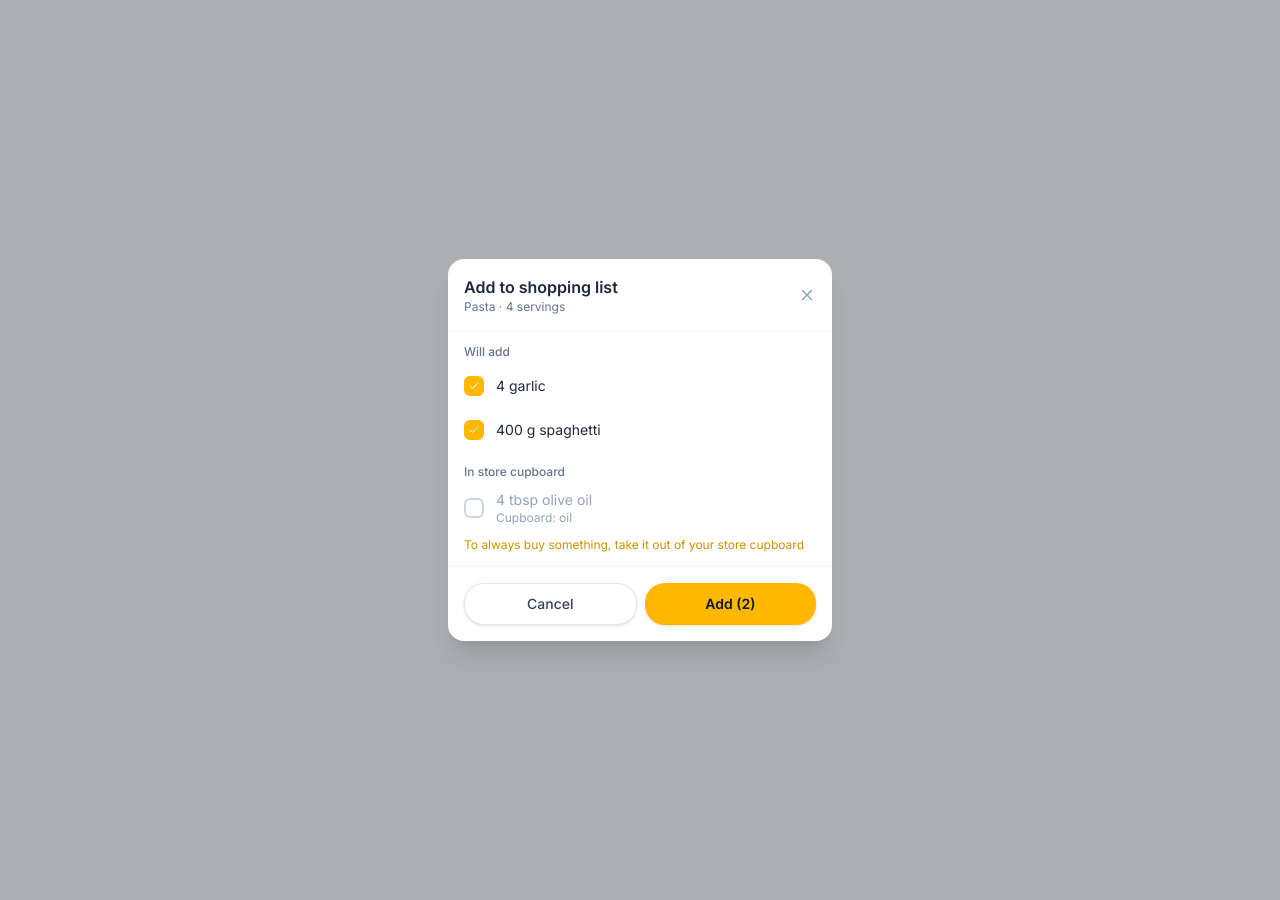
Scenario: AddMealPreviewModal › offers only what is not on the list yet when opened again
The image size is (1280, 900).
Click the checkbox labelled "4 garlic": (521, 385) [464,364,816,408]
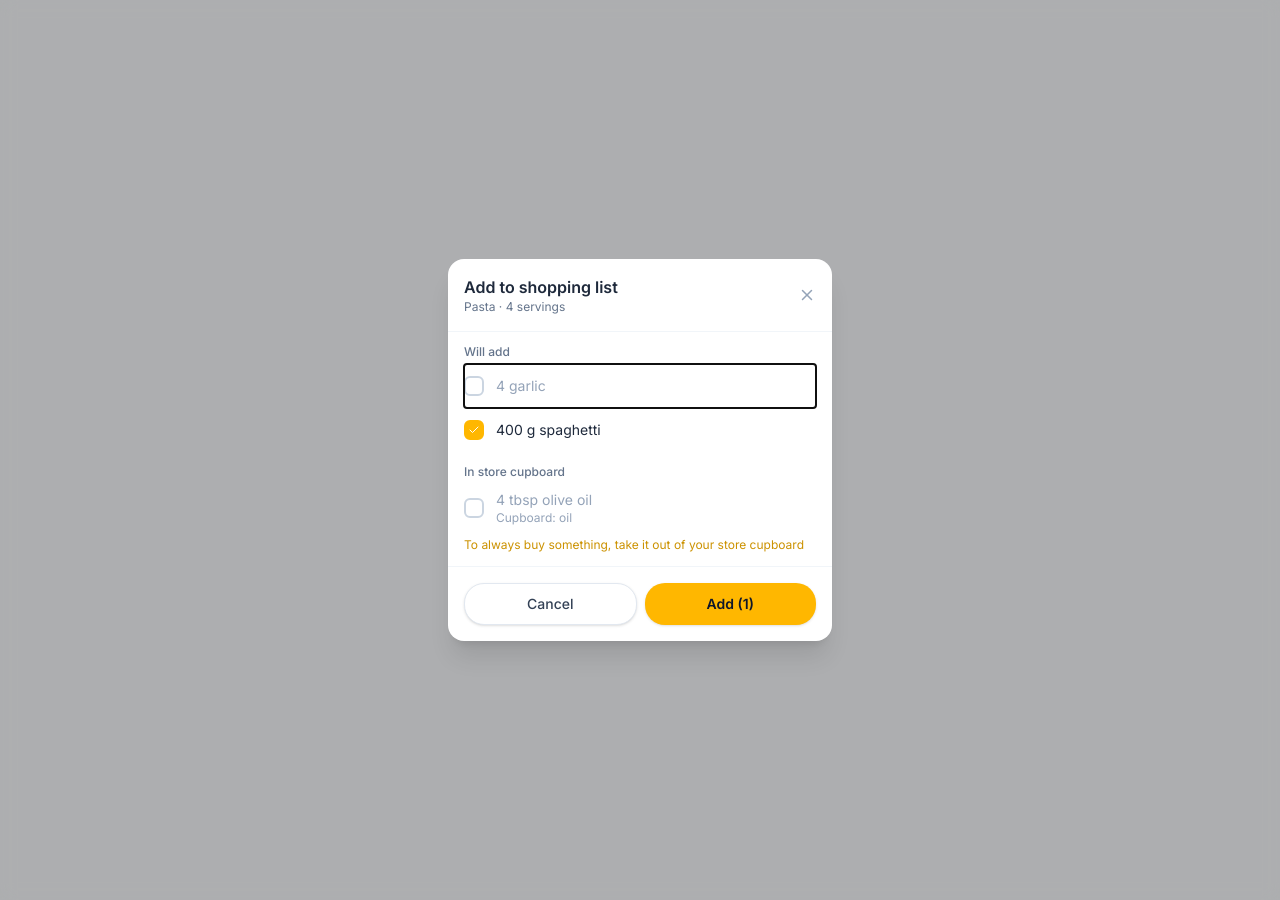
Click the button "Add (1)": (730, 604) [645,583,816,625]
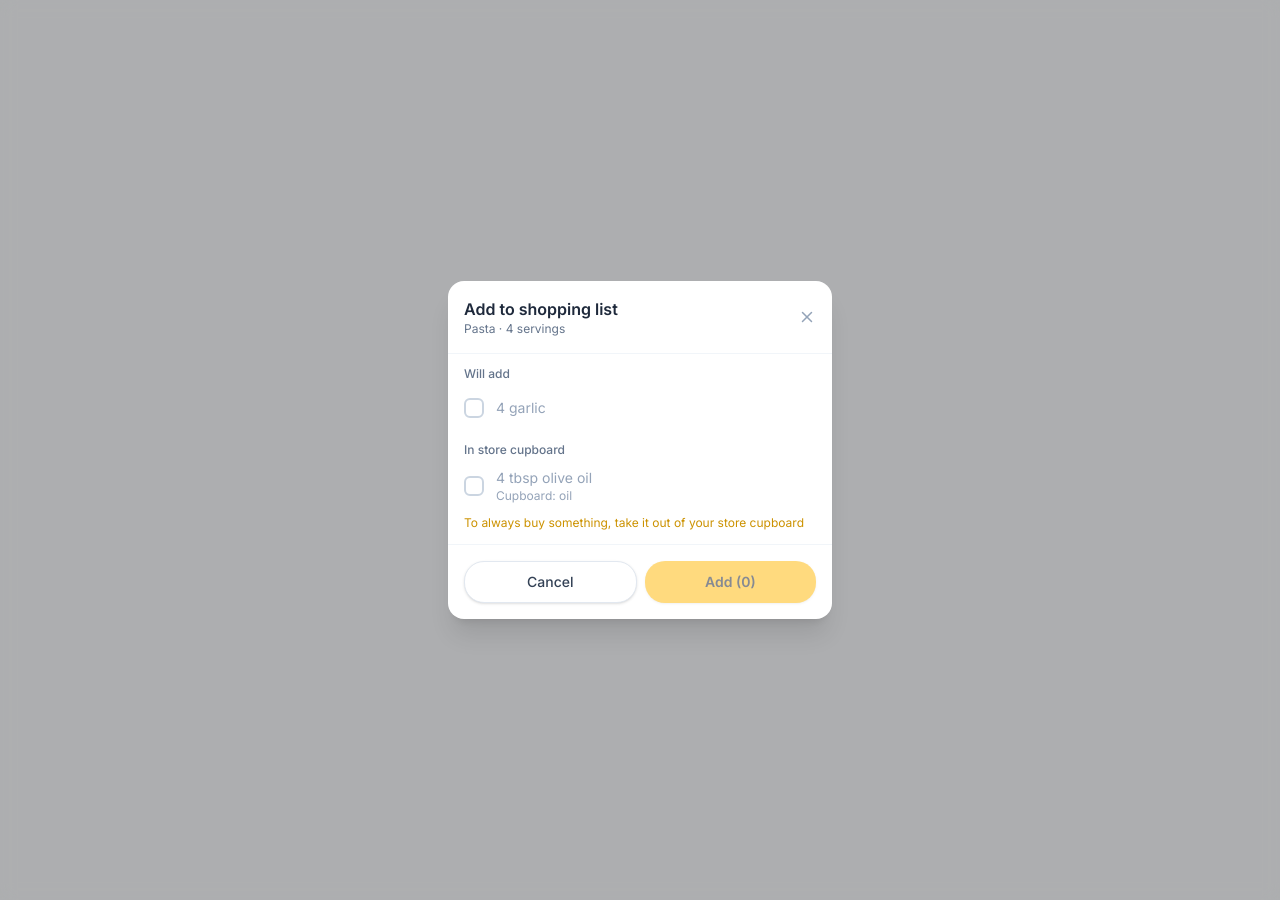
Expected: the checkbox labelled "4 garlic" is shown, [464,386,816,430]
Expected: the checkbox labelled "spaghetti" is gone
